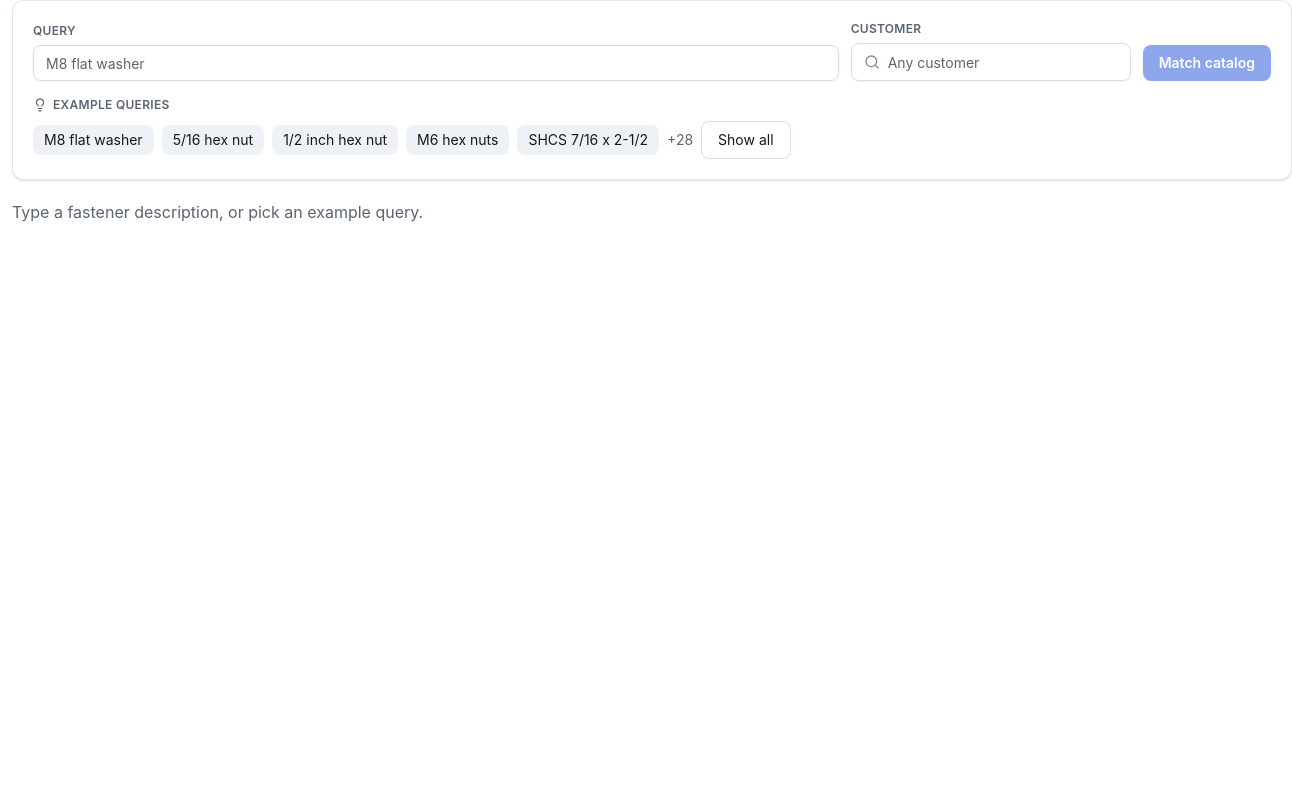
Test: ResultsPanel › never announces a near miss as a match
Step 1. Type "M8 flat washer DIN 912" into the field labelled "Query" → (436, 63), box [33,45,839,81]
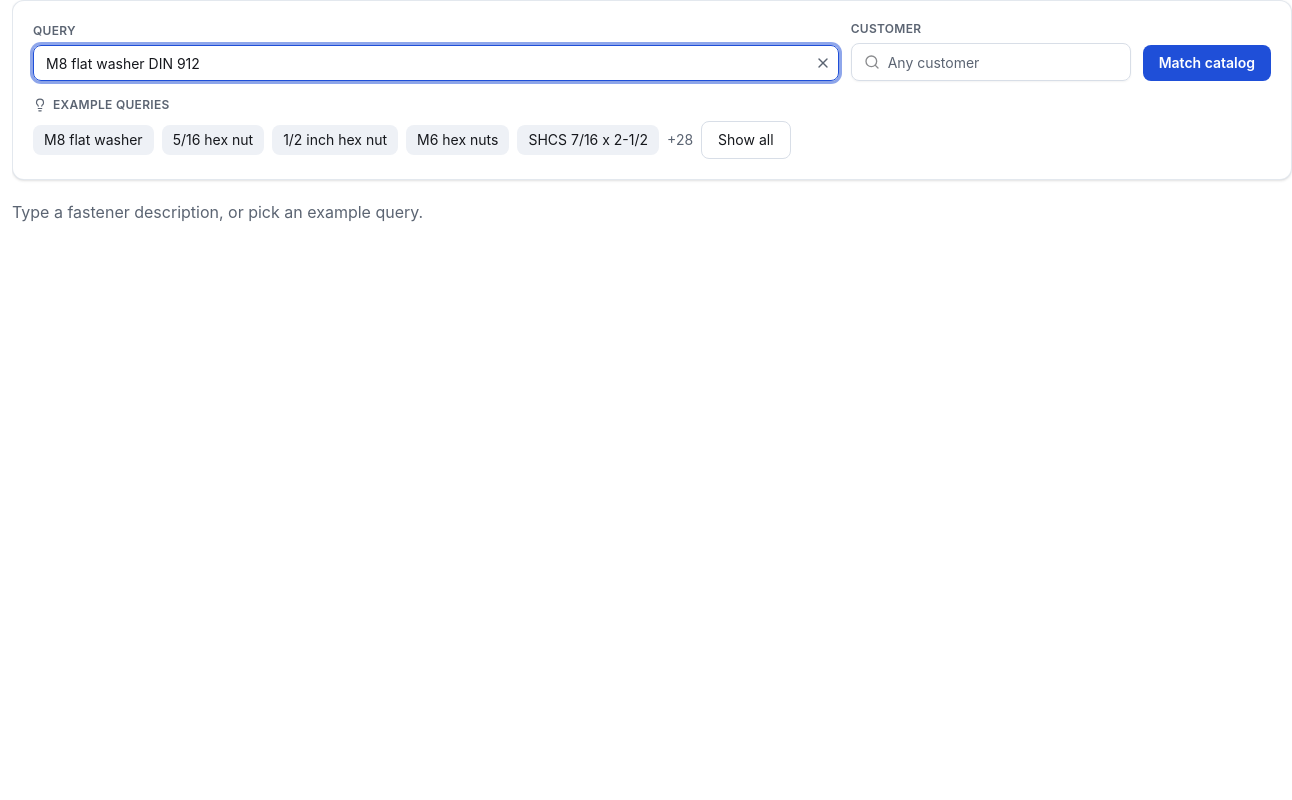
Step 2. Click the button "Match catalog" → (1207, 63), box [1143,45,1271,81]
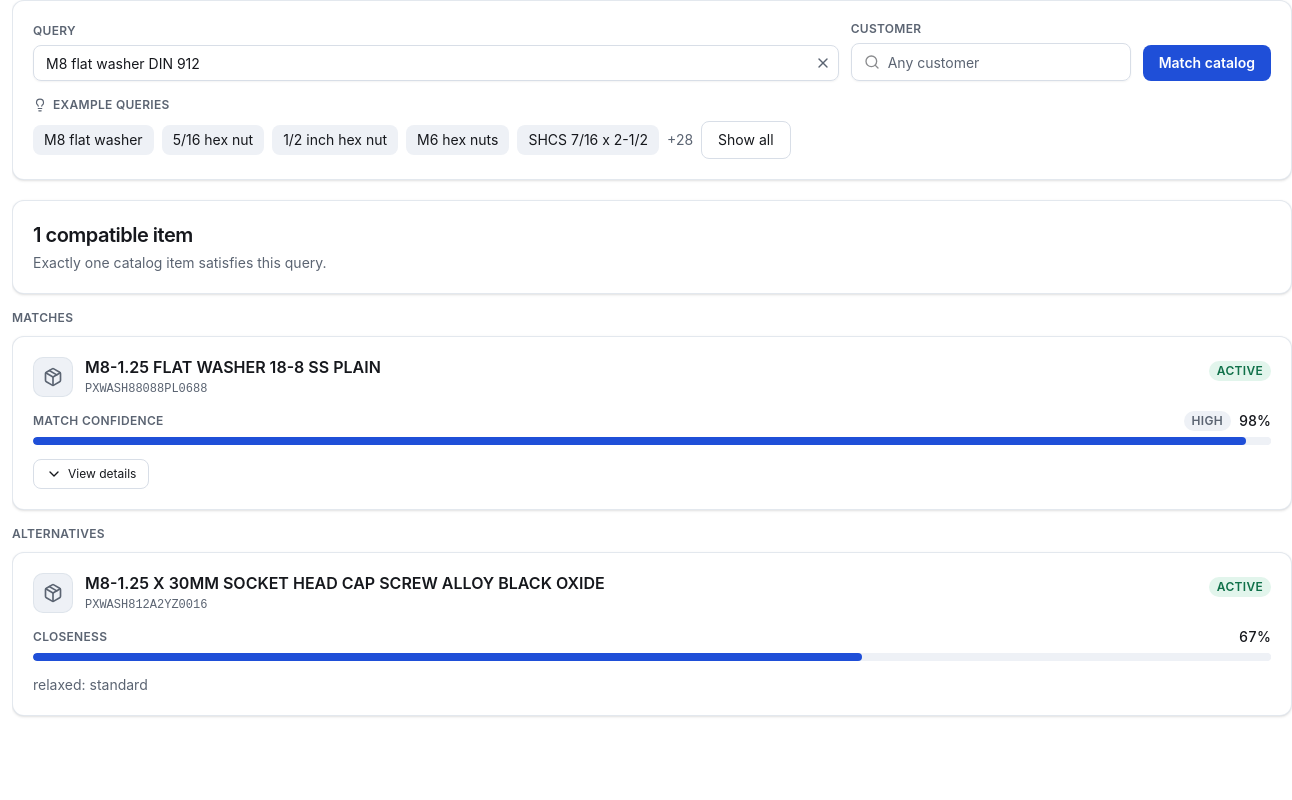
Check: the text "PXWASH812A2YZ0016" is shown, box [85,598,207,612]
Check: the text "Closeness" is shown, box [33,629,107,645]
Check: the text "relaxed: standard" is shown, box [33,676,148,693]
